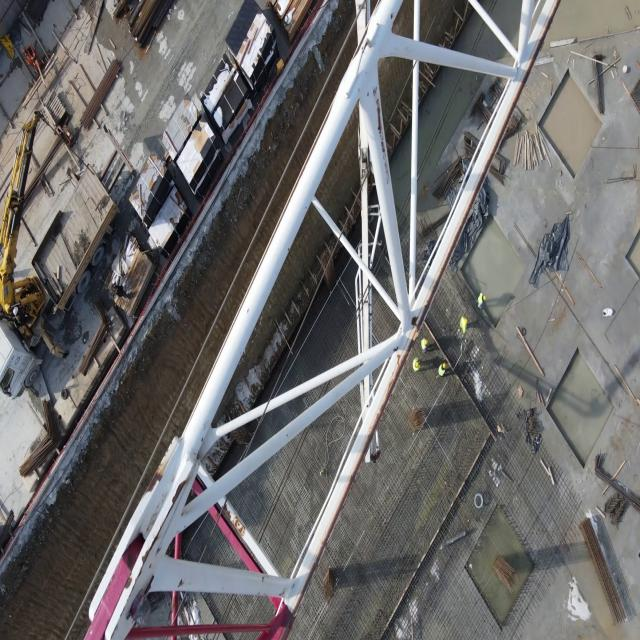p3rson: (110, 277, 129, 299), (12, 305, 32, 323), (474, 291, 486, 310), (458, 316, 468, 334), (412, 356, 421, 371), (421, 337, 428, 354), (438, 362, 446, 376)
